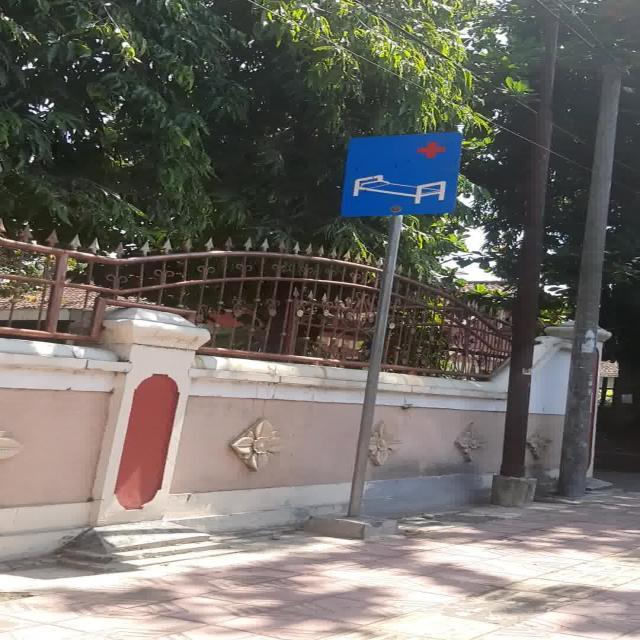Rumah Sakit: (342, 132, 460, 216)
